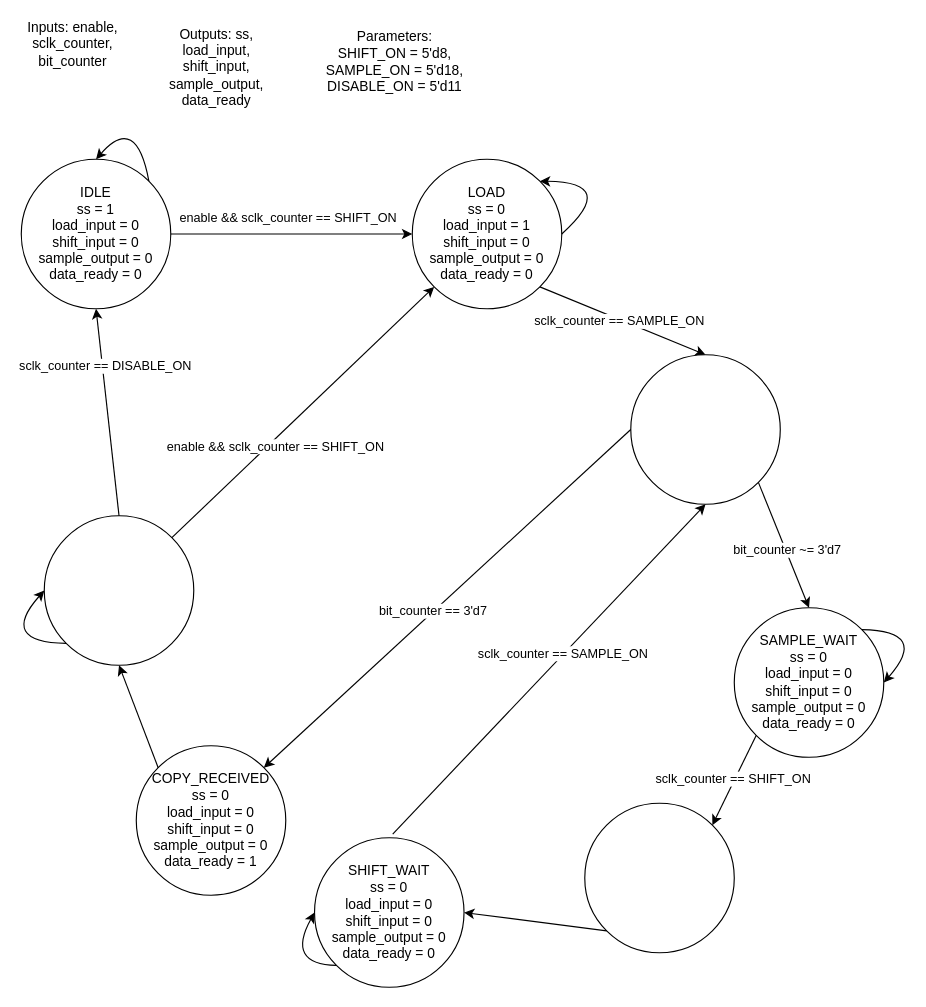
Image size: 926x1007. Some labels were removed from this diagram. Here are the shapes that lost their labels. From the top down, the box of each, then its label:
(630, 354, 780, 504): SAMPLE ss = 0 load_input = 0 shift_input = 0 sample_output = 1 data_ready = 0
(43, 515, 194, 665): DONE ss = 0 load_input = 0 shift_input = 0 sample_output = 0 data_ready = 0
(584, 802, 734, 953): SHIFT ss = 0 load_input = 0 shift_input = 1 sample_output = 0 data_ready = 0
